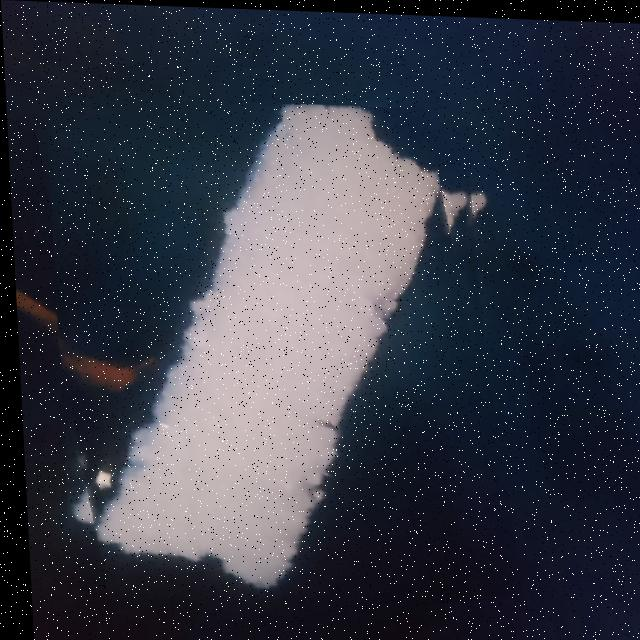thermocoal: (44, 94, 505, 627)
